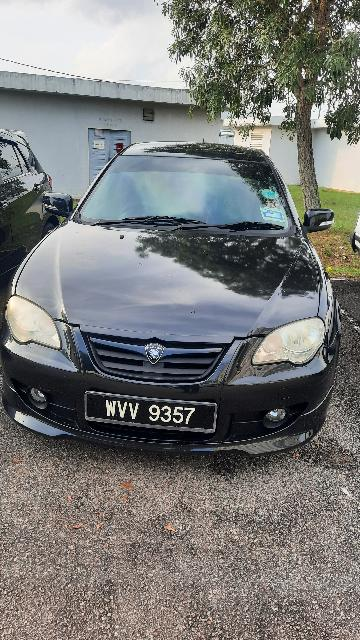License_Plate: (67, 380, 238, 444)
car: (1, 133, 341, 470)
